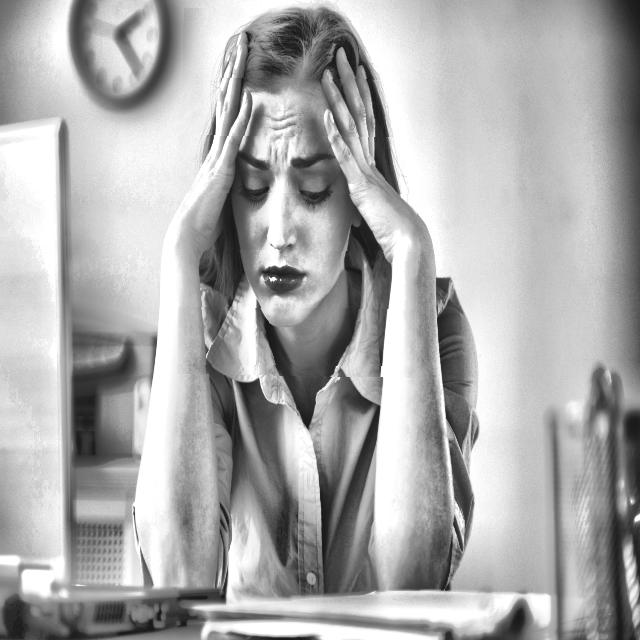sad: (178, 9, 419, 377)
